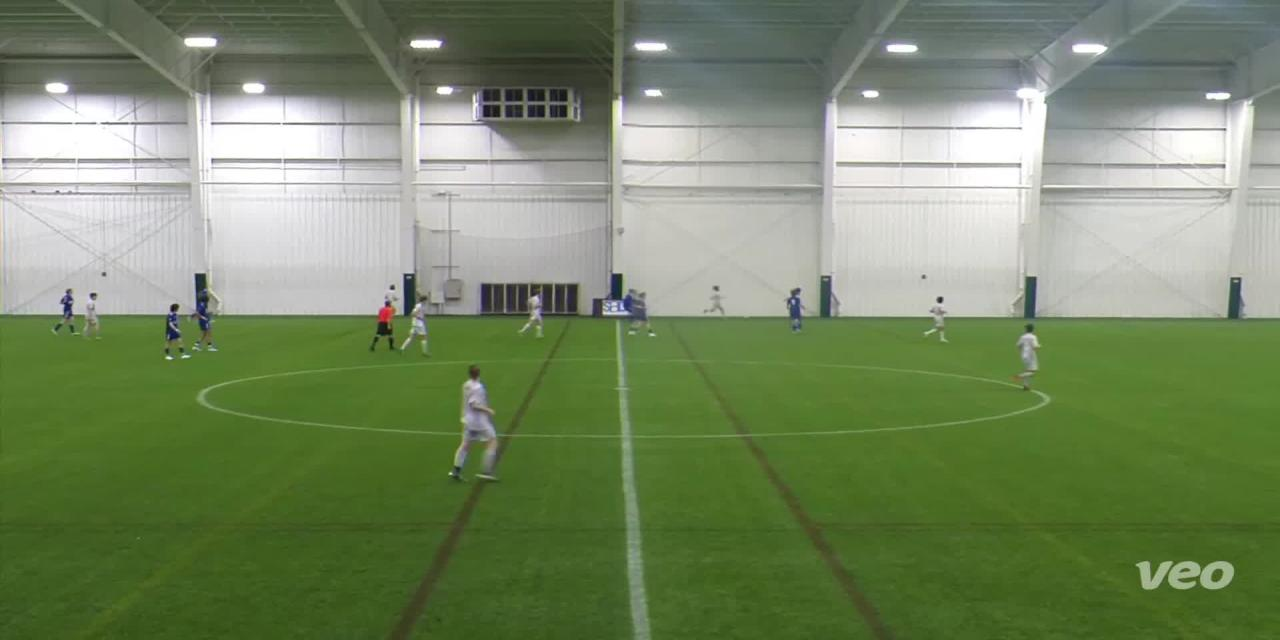sports ball: (738, 310, 756, 326)
